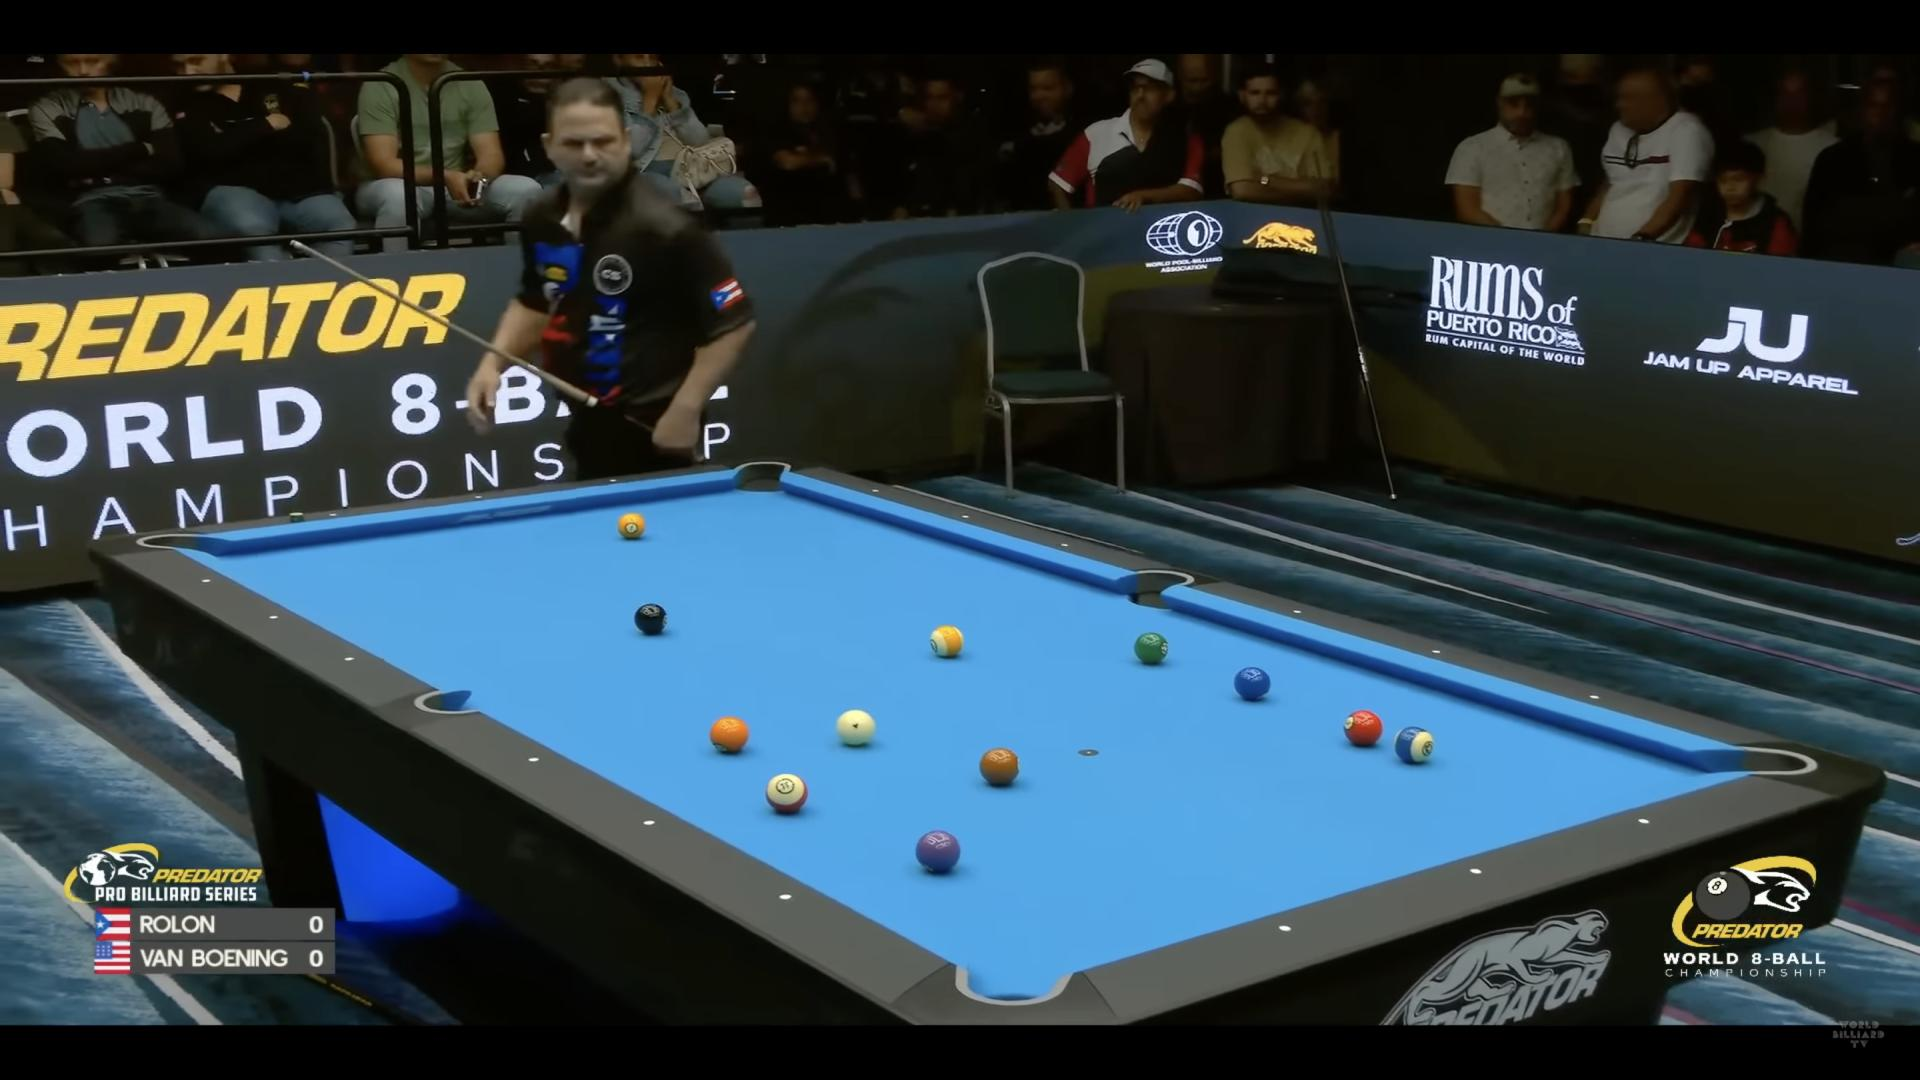Black: (634, 603, 667, 634)
Cue: (836, 709, 874, 745)
Dot: (774, 890, 794, 909), (640, 814, 658, 832), (1278, 920, 1294, 935), (1468, 865, 1484, 880), (1636, 815, 1651, 828), (1588, 691, 1601, 703), (1431, 645, 1444, 657), (1291, 605, 1304, 617), (343, 653, 356, 665), (266, 611, 280, 622), (199, 574, 212, 585), (327, 510, 338, 520), (473, 492, 484, 501), (529, 754, 538, 764), (608, 476, 618, 484), (1062, 541, 1069, 549), (961, 512, 969, 520), (872, 487, 880, 495)
Solid: (916, 829, 961, 873), (978, 748, 1021, 786), (709, 716, 749, 753), (1344, 711, 1383, 746), (1233, 666, 1270, 700), (1134, 633, 1168, 665), (617, 513, 646, 538)
Striped: (765, 773, 808, 814), (1393, 727, 1435, 764), (930, 625, 964, 657)
